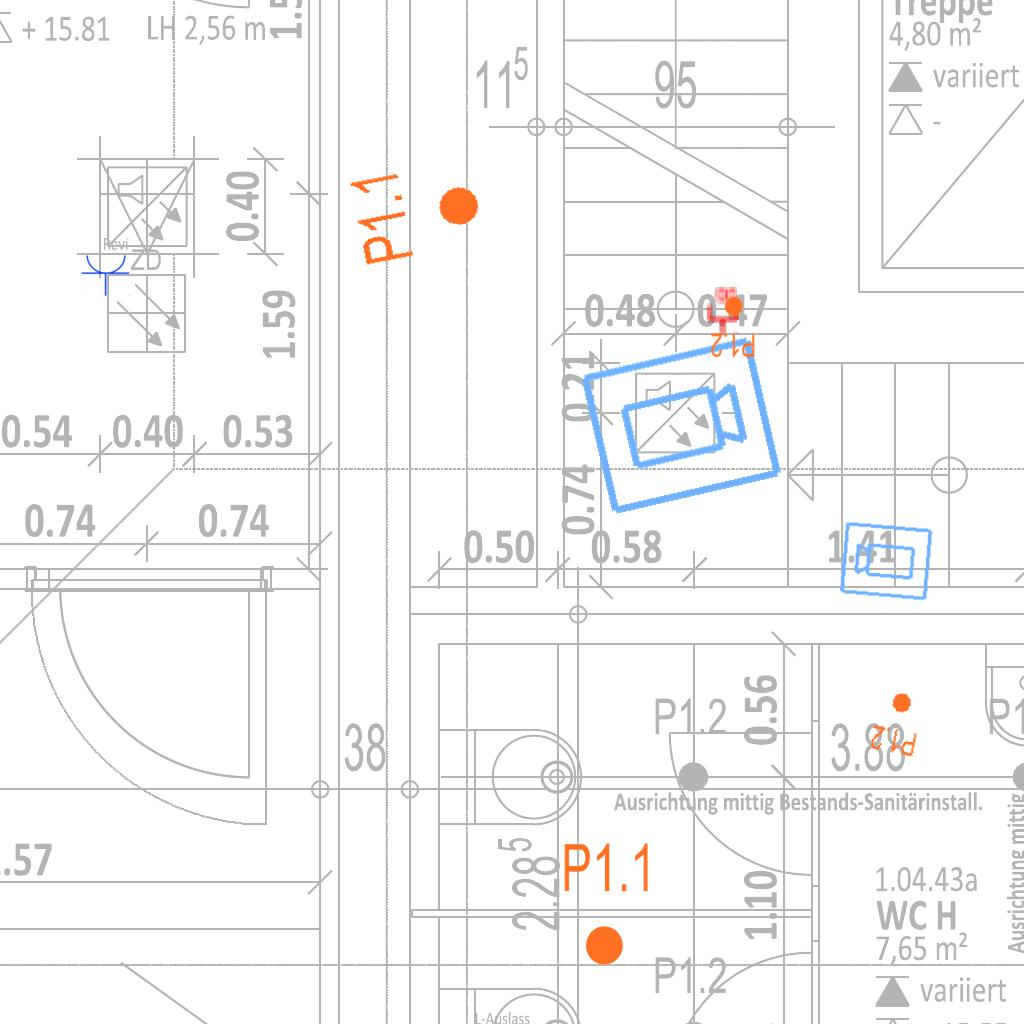Datenanschluss_zweifach: (705, 285, 739, 336)
Downlight_LED_Einbauleuchten_Flur: (345, 153, 490, 269), (561, 840, 654, 968), (868, 687, 926, 759), (710, 295, 756, 359)
KFO_Kamera_mit_Festobjektiv: (575, 331, 787, 523), (837, 518, 936, 603)
Schukosteckdose_einfach: (81, 253, 131, 296)
